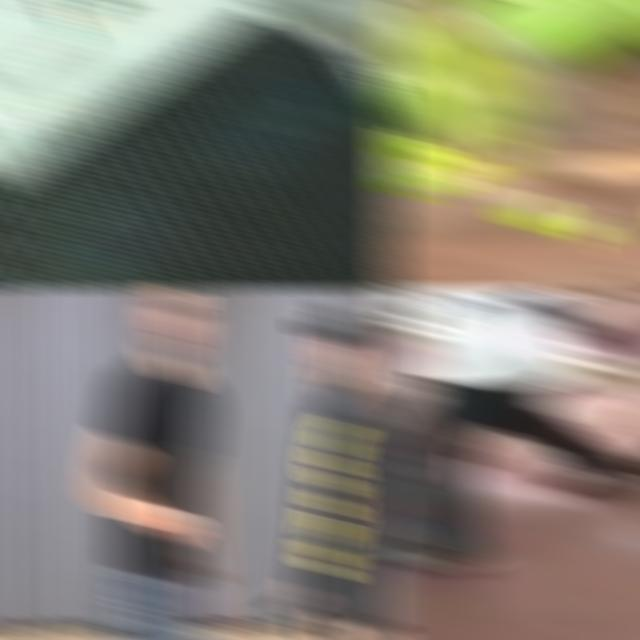Knife_Handle: (0, 0, 400, 126), (380, 0, 619, 155), (273, 576, 329, 619)
